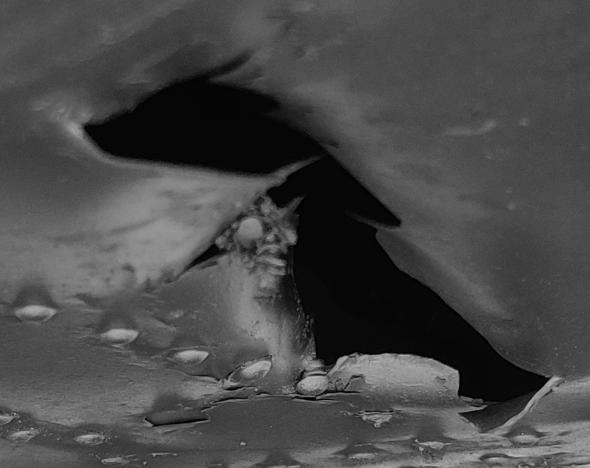crack: (1, 1, 590, 468)
